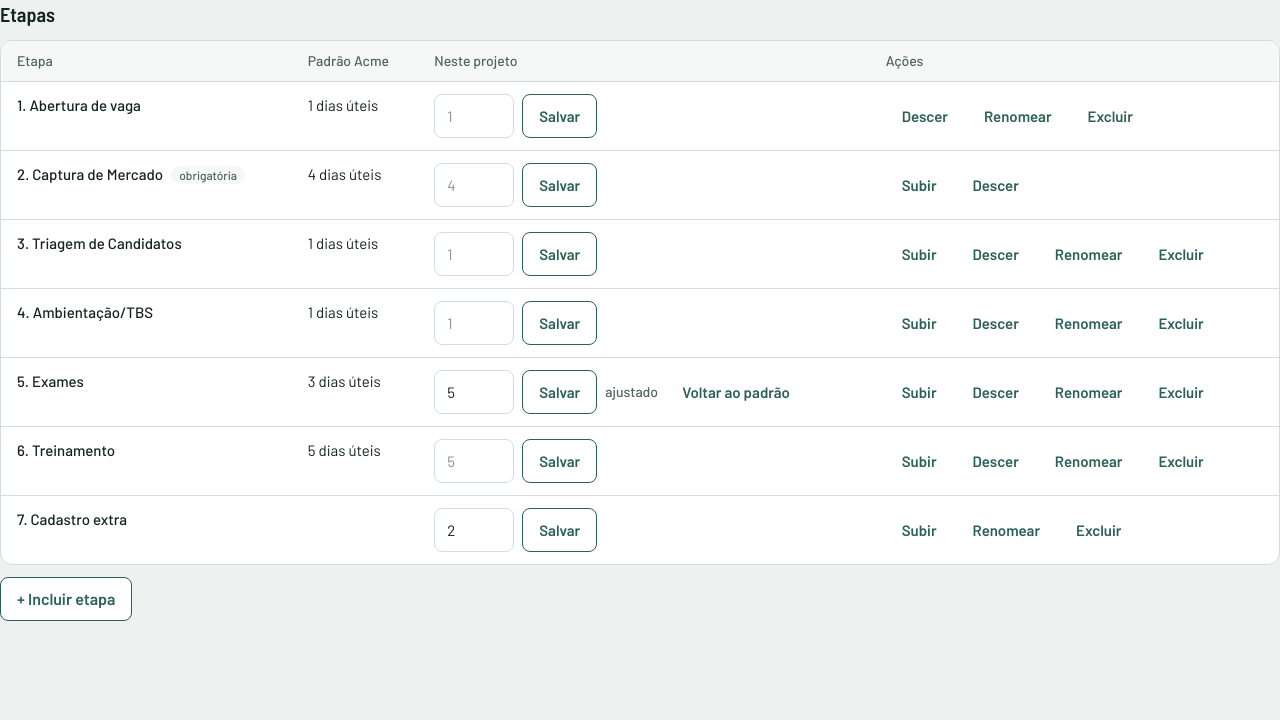
a confirmação de exclusão usa o singular para uma vaga
The width and height of the screenshot is (1280, 720).
Click the button named "Excluir Treinamento" at (1181, 461), box x1=1142 y1=439 x2=1220 y2=483
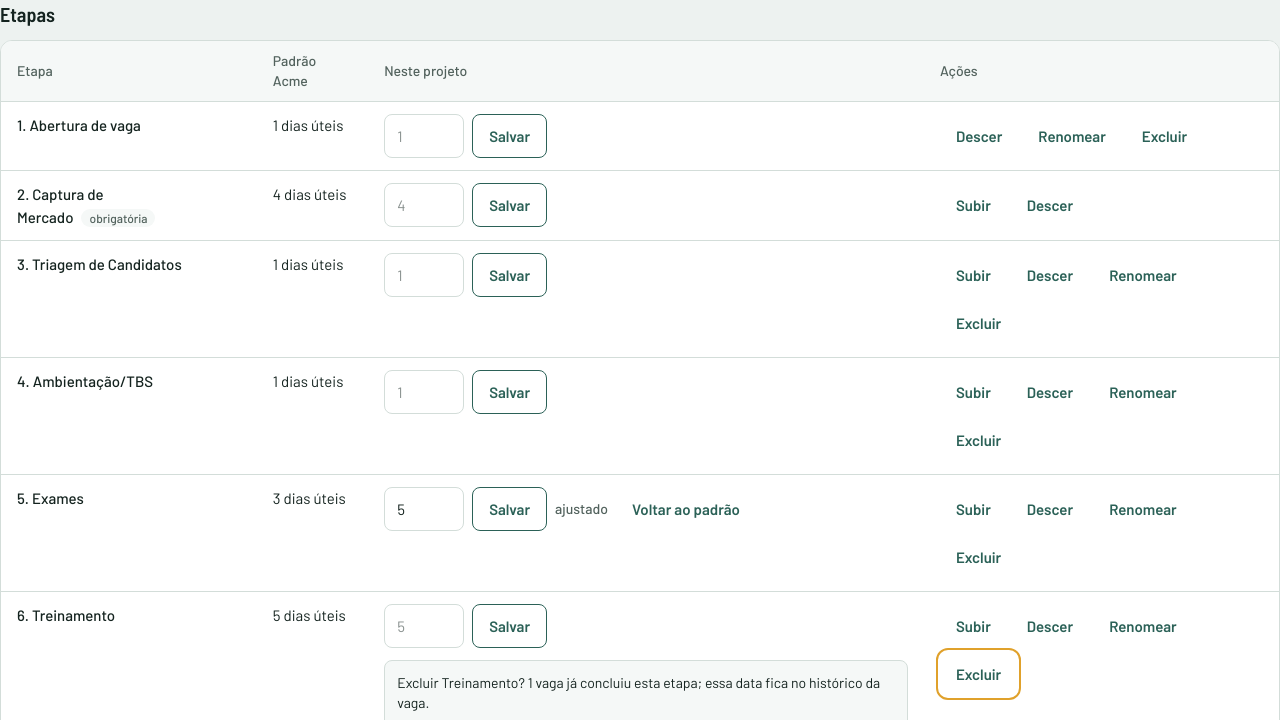
Now the text "1 vaga já concluiu esta etapa; essa data fica no histórico da vaga." is shown, box x1=397 y1=674 x2=880 y2=711
